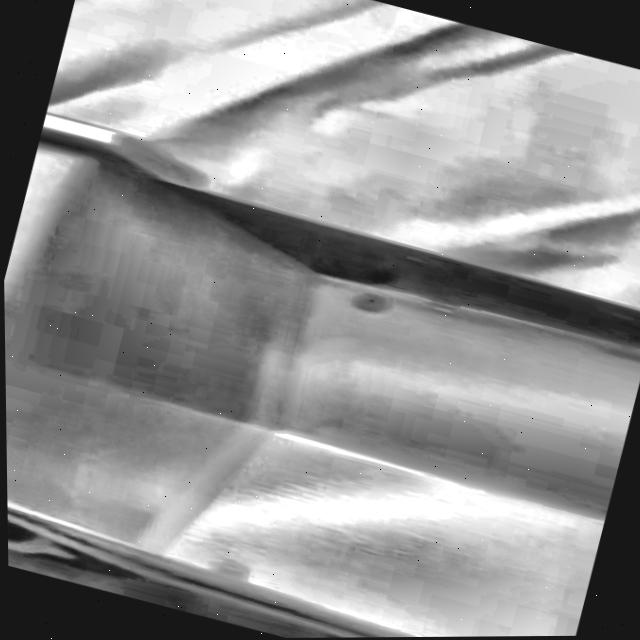dump_truck: (1, 113, 640, 640)
